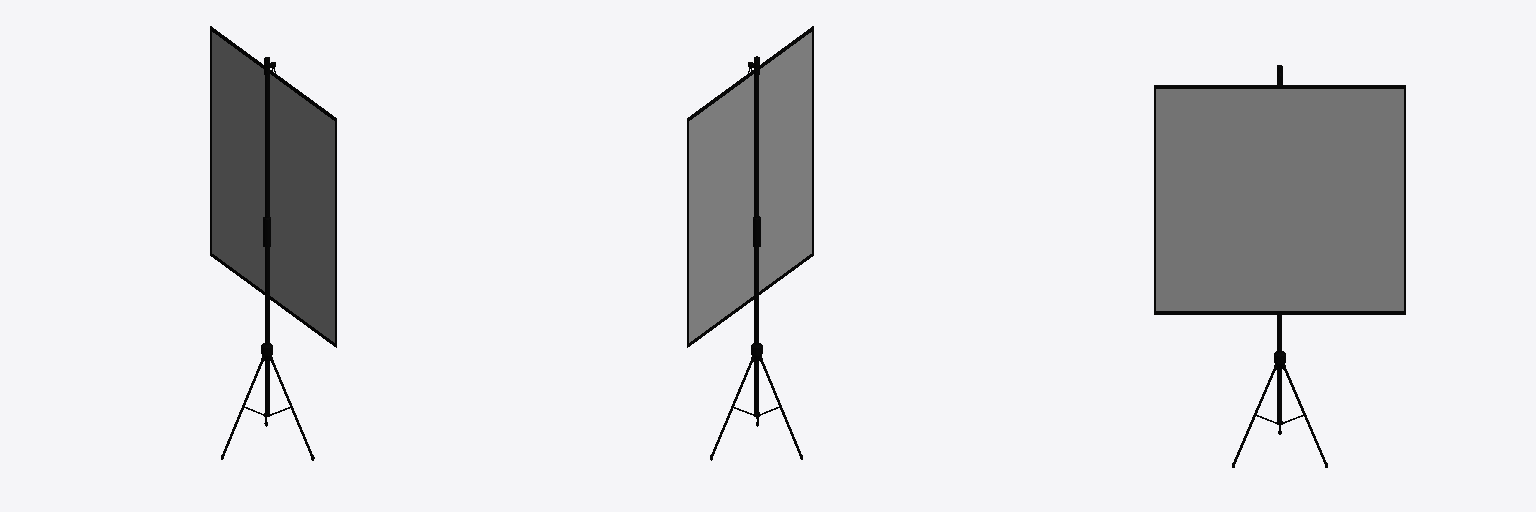
The picture shows the model from 3 angles: view 1: azimuth 30°, elevation 25°; view 2: azimuth 150°, elevation 25°; view 3: azimuth 270°, elevation 25°; orthographic projection.
Visible parts, largest first — view 1: Plane_005; view 2: Plane_005; view 3: Plane_005.
Boxes of the visible parts, box(x1,y1,x2,y2) form: Plane_005: box(210, 26, 336, 460); Plane_005: box(687, 26, 813, 460); Plane_005: box(1154, 65, 1405, 467).
Bounding box in the file's own units: 0.6524 × 3.48 × 2.04.
Materials: 2 (2 with a texture image).